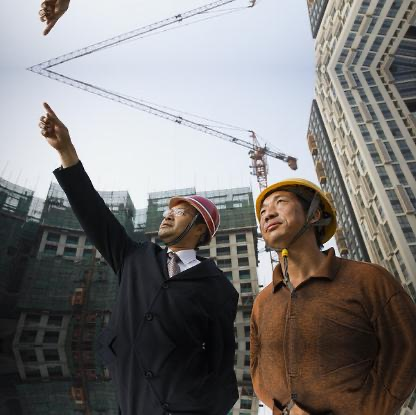Safety Helmet: (252, 167, 344, 267), (152, 189, 219, 262)
